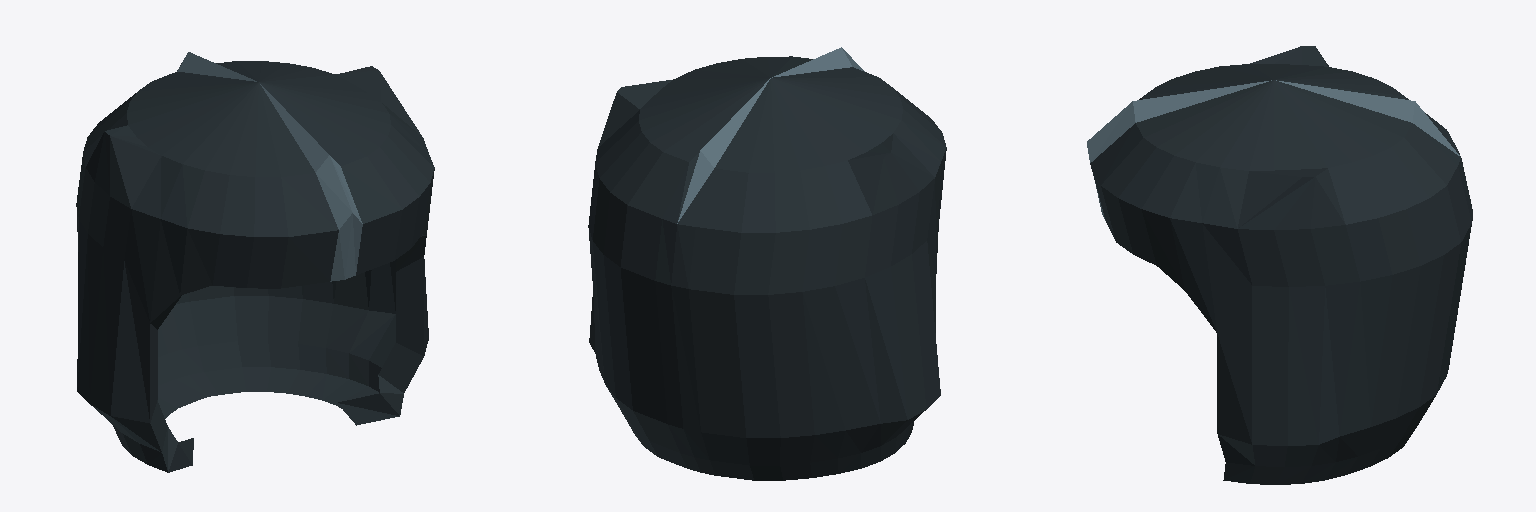
File: character_knightHelmet.obj
3 views of the same model, side by side, from view 1: azimuth 30°, elevation 25°; view 2: azimuth 150°, elevation 25°; view 3: azimuth 270°, elevation 25° (orthographic).
Parts seen in each view (by area): view 1: character_knightHelmet_Cylinder.001; view 2: character_knightHelmet_Cylinder.001; view 3: character_knightHelmet_Cylinder.001.
Boxes of the visible parts, x1=… form: character_knightHelmet_Cylinder.001: x1=76, y1=52, x2=434, y2=472; character_knightHelmet_Cylinder.001: x1=588, y1=47, x2=946, y2=480; character_knightHelmet_Cylinder.001: x1=1087, y1=46, x2=1472, y2=484.
Size of the model in its own units: 1.21 by 1.25 by 1.25.